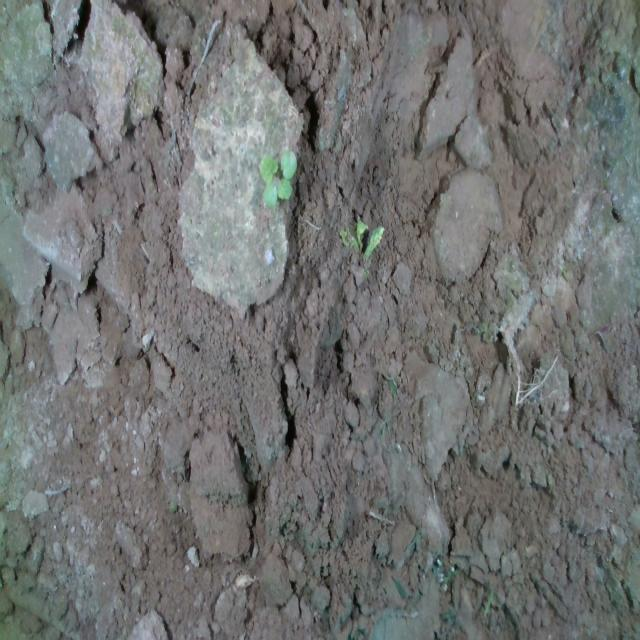weed: (258, 148, 296, 209)
